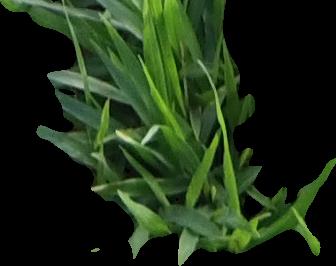grass: (1, 1, 334, 263)
